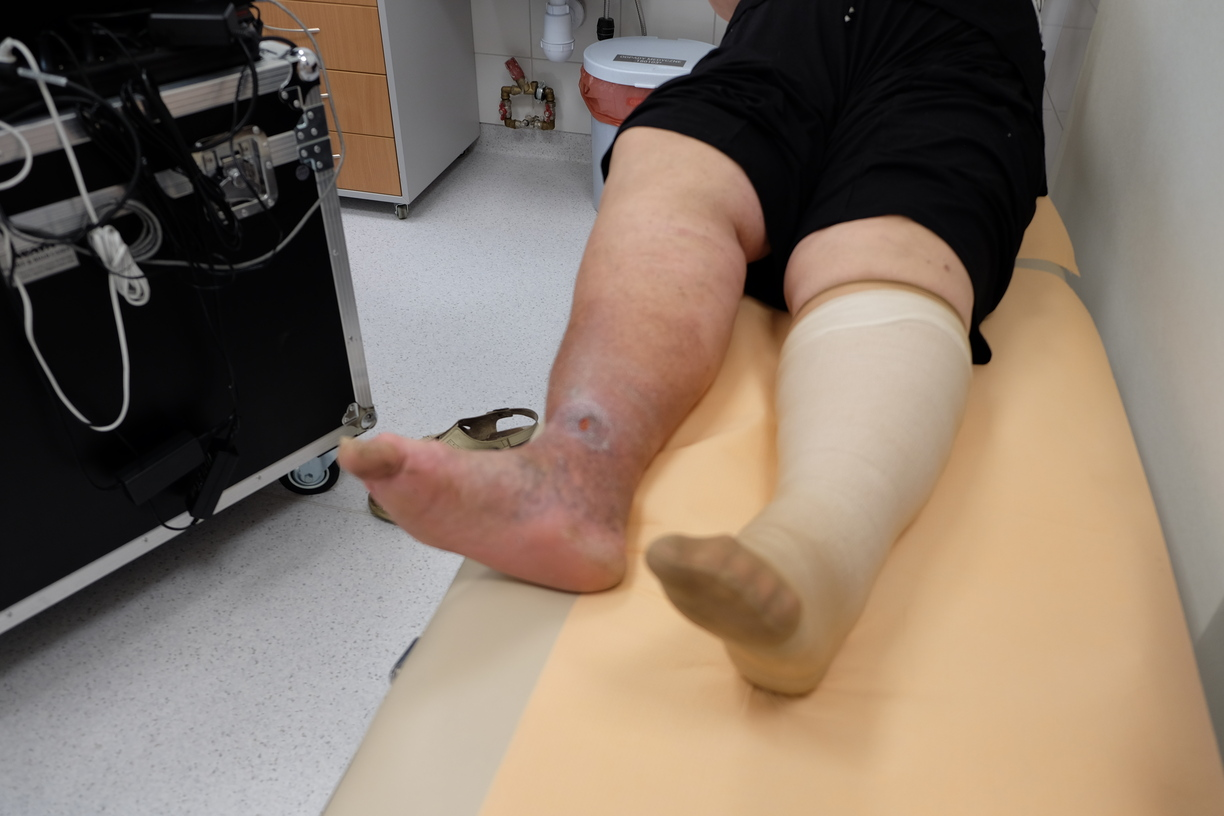wound: (575, 413, 595, 436)
